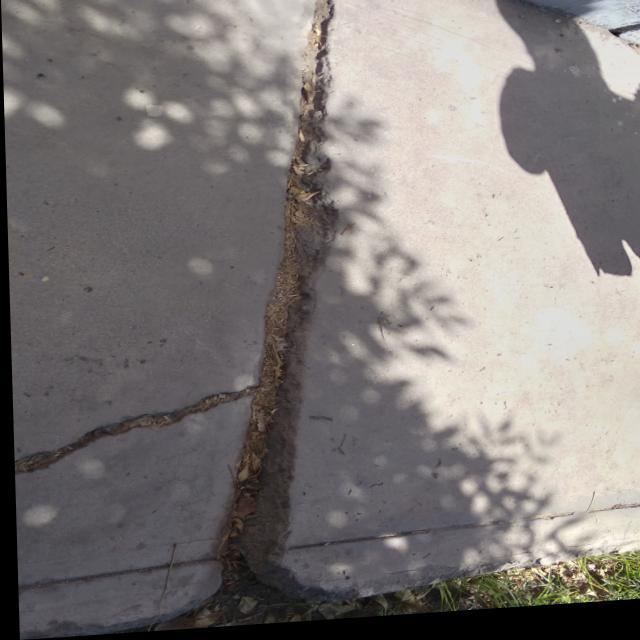hole: (194, 0, 348, 620)
